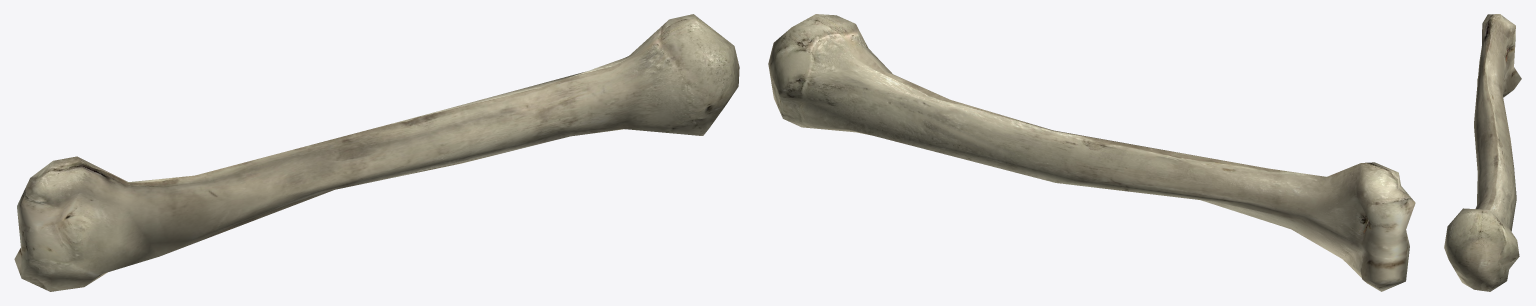
Rendered from bone.glb.
3 renders of one model, left to right at view 1: azimuth 30°, elevation 25°; view 2: azimuth 150°, elevation 25°; view 3: azimuth 270°, elevation 25°, orthographic. The views are drawn at different scales.
Visible parts, largest first — view 1: bone; view 2: bone; view 3: bone.
Boxes of the visible parts, x1=… form: bone: x1=14, y1=14, x2=739, y2=291; bone: x1=768, y1=14, x2=1415, y2=291; bone: x1=1444, y1=14, x2=1521, y2=291.
Bounding box in the file's own units: 0.2472 × 0.0428 × 0.0362.
1 material, 1 textured.
